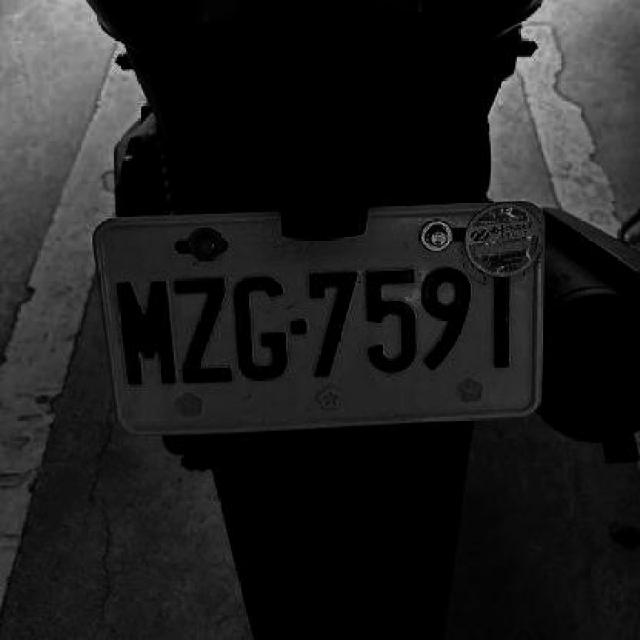-: (288, 320, 304, 335)
1: (488, 269, 514, 369)
5: (362, 265, 418, 372)
7: (308, 269, 360, 380)
9: (418, 264, 474, 370)
G: (233, 274, 284, 380)
M: (114, 279, 178, 383)
Z: (175, 275, 232, 388)
